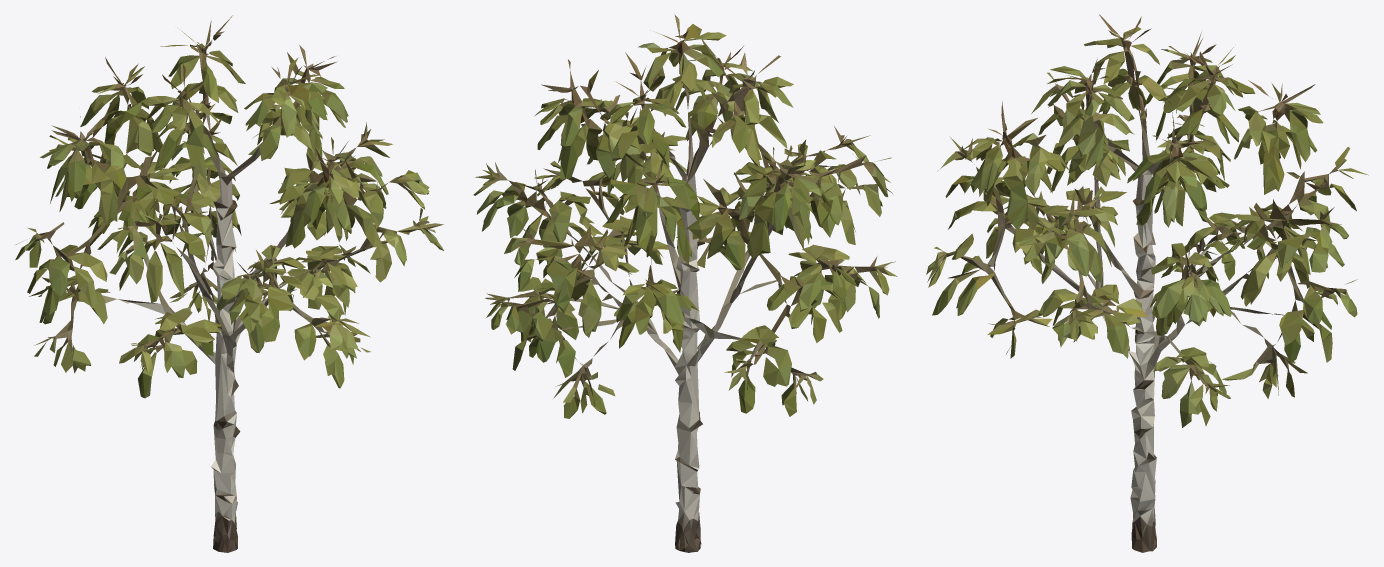
Rendered from tree.glb.
3 views of the same model, side by side, from view 1: azimuth 30°, elevation 25°; view 2: azimuth 150°, elevation 25°; view 3: azimuth 270°, elevation 25° (orthographic).
Visible parts, largest first — view 1: tree; view 2: tree; view 3: tree.
Boxes of the visible parts, x1,y1,x2,y2 form: tree: (15,15,443,552); tree: (473,14,897,552); tree: (926,14,1368,552).
Bounding box in the file's own units: 0.7506 × 0.9831 × 0.7677.
1 material, 1 textured.
